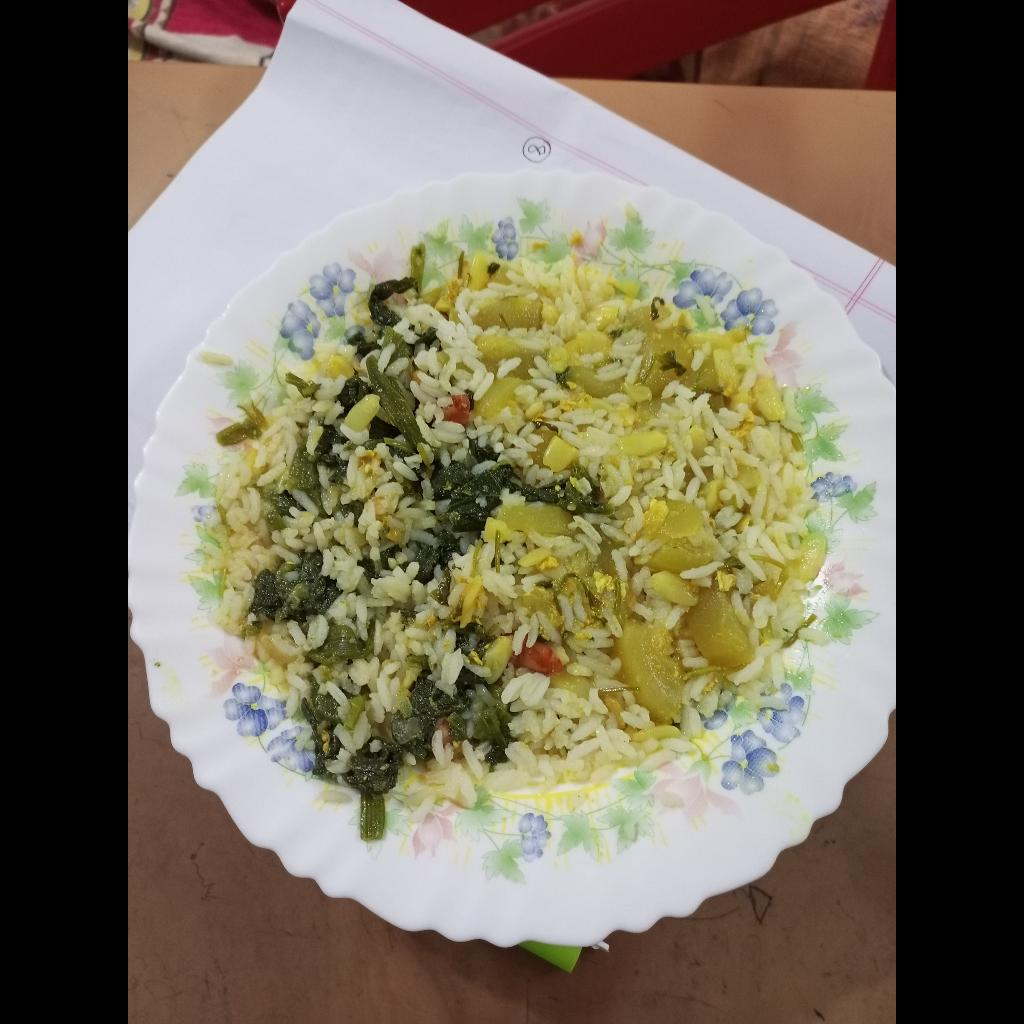khichuri: (213, 254, 819, 841)
